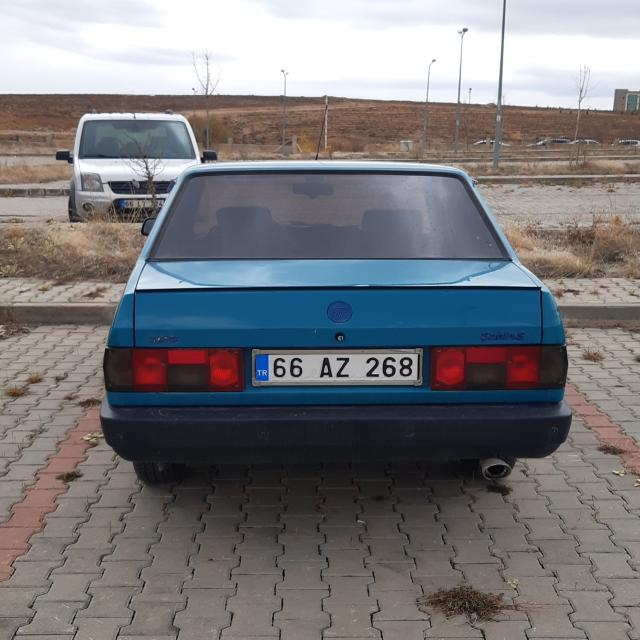license_plate: (255, 354, 418, 380)
